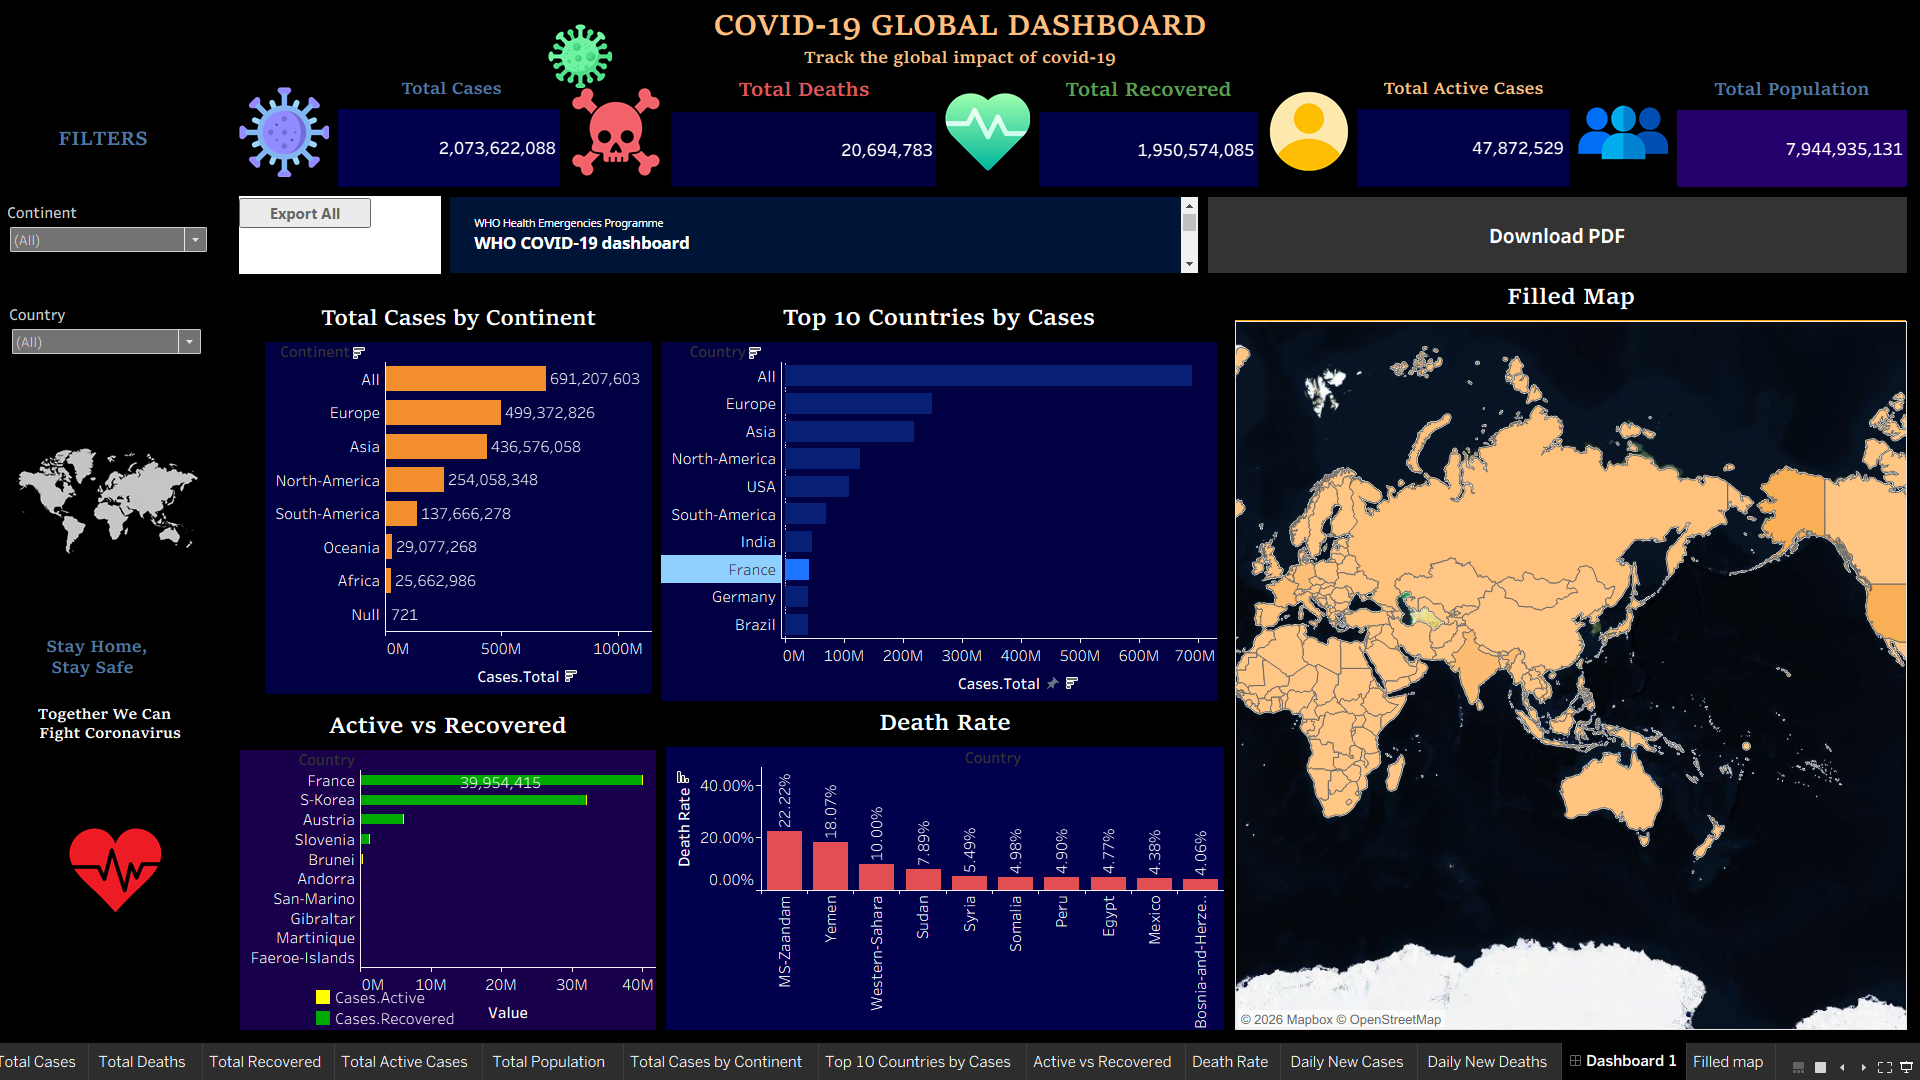

This screenshot's page, from the dashboard's own definition file:
{"tool":"tableau","page":{"name":"Dashboard 1","canvas":[1000,1000],"units":"permille","ordinal":0},"visuals":[{"type":"title","box":[11.5,9.5,977,76.1]},{"type":"image","param":"Image/virus.png","box":[273.7,18.8,57.1,69.3]},{"type":"text","box":[11.5,85.6,116.7,904.9]},{"type":"image","param":"Image/virus (1).png","box":[128.2,85.6,50.1,112.5]},{"type":"image","param":"Image/danger.png","box":[297.1,85.6,51.8,112.5]},{"type":"image","param":"Image/ekg.png","box":[490.4,85.6,47.8,112.5]},{"type":"image","param":"Image/ChatGPT Image Jul 8, 2026, 08_36_25 PM.png","box":[655.8,85.6,45.9,112.5]},{"type":"image","param":"Image/audience.png","box":[815.3,85.6,50.1,112.5]},{"type":"text","box":[6.5,85.8,95,96.4]},{"type":"worksheet","title":" Total Cases","mark":"Automatic","box":[179.7,86.8,115.9,110.1]},{"type":"worksheet","title":" Total Deaths ","mark":"Automatic","box":[350.3,86.8,138.6,110.1]},{"type":"worksheet","title":"Total Recovered","mark":"Automatic","box":[539.6,86.8,114.8,110.1]},{"type":"worksheet","title":"Total Active Cases","mark":"Automatic","box":[703.2,86.8,110.7,110.1]},{"type":"worksheet","title":" Total Population ","mark":"Automatic","box":[866.8,86.8,120.3,110.1]},{"type":"filter","title":"Total Cases by Continent","param":"[federated.0fb30rt17e1cgw10ygbpq0j1185i].[none:Continent:nk]","box":[3.5,193.9,105.7,76.4]},{"type":"dashboard-object","param":"[com.theinformationlab.extensions.exportall].[1.0.0].[https://exportallextension","box":[128.2,198.1,107.8,81.1]},{"type":"dashboard-object","box":[624.9,198.1,363.6,81.1]},{"type":"web page","param":"https://data.who.int/dashboards/covid19","box":[237.4,199.3,386,78.7]},{"type":"worksheet","title":"Filled map","mark":"Multipolygon","box":[639.7,280.4,347.3,708.9]},{"type":"filter","title":"Filled map","param":"[federated.0fb30rt17e1cgw10ygbpq0j1185i].[none:Country:nk]","box":[4.7,291.4,101.5,81.1]},{"type":"worksheet","title":"Total Cases by Continent","mark":"Bar","rows":["Continent"],"cols":["Cases.Total"],"box":[138.2,291.4,201.5,383.1]},{"type":"worksheet","title":"Top 10 Countries by Cases","mark":"Bar","rows":["Country"],"cols":["Cases.Total"],"box":[344.5,291.4,289.4,380.7]},{"type":"image","param":"Image/ChatGPT Image Jul 8, 2026, 11_39_52 PM.png","box":[1.8,404.2,116.9,168]},{"type":"text","box":[9.5,540.5,108.7,244.4]},{"type":"worksheet","title":"Death Rate","mark":"Automatic","rows":["Calculation_1281226805153792"],"cols":["Country"],"box":[348.1,680.5,288.7,308.8]},{"type":"worksheet","title":"Active vs Recovered","mark":"Bar","rows":["Country"],"box":[129.6,683,215.6,306.3]},{"type":"image","param":"Image/heart-rate (1).png","box":[33.9,783.8,52.3,102.2]},{"type":"legend","title":"Active vs Recovered","param":"[federated.0fb30rt17e1cgw10ygbpq0j1185i].[:Measure Names]","box":[162.9,924.8,165.9,72.9]}]}

Visuals, with their boxes on the dashboard's canvas, which has no fixed pixel size, in thousandths of its width and height (x1, y1, x2, y2). These are canvas units, not pixel positions in the 1920x1080 screenshot, which may show the page scaled, cropped or inside an application window:
title: 12, 10, 988, 86
image: 274, 19, 331, 88
text: 12, 86, 128, 990
image: 128, 86, 178, 198
image: 297, 86, 349, 198
image: 490, 86, 538, 198
image: 656, 86, 702, 198
image: 815, 86, 865, 198
text: 6, 86, 102, 182
" Total Cases" worksheet: 180, 87, 296, 197
" Total Deaths " worksheet: 350, 87, 489, 197
"Total Recovered" worksheet: 540, 87, 654, 197
"Total Active Cases" worksheet: 703, 87, 814, 197
" Total Population " worksheet: 867, 87, 987, 197
"Total Cases by Continent" filter: 4, 194, 109, 270
dashboard-object: 128, 198, 236, 279
dashboard-object: 625, 198, 988, 279
web page: 237, 199, 623, 278
"Filled map" worksheet (Multipolygon marks): 640, 280, 987, 989
"Filled map" filter: 5, 291, 106, 372
"Total Cases by Continent" worksheet (Bar marks): 138, 291, 340, 674
"Top 10 Countries by Cases" worksheet (Bar marks): 344, 291, 634, 672
image: 2, 404, 119, 572
text: 10, 540, 118, 785
"Death Rate" worksheet: 348, 680, 637, 989
"Active vs Recovered" worksheet (Bar marks): 130, 683, 345, 989
image: 34, 784, 86, 886
"Active vs Recovered" legend: 163, 925, 329, 998
